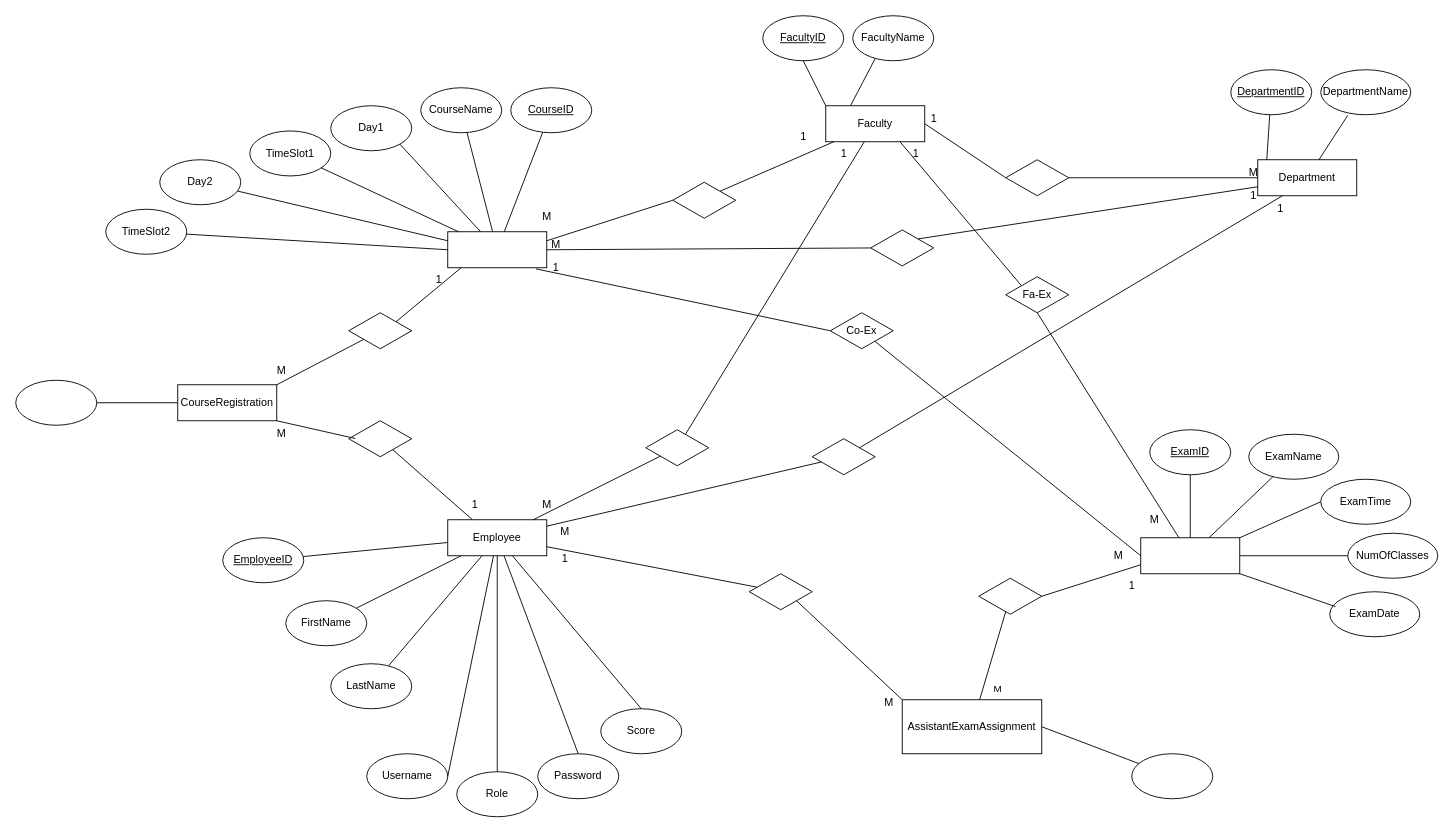
The diagram is 1454 pixels wide and 833 high, and some of its shapes have lost their labels. The shapes that lost their labels are listed below. From the top down, each one's box as (x1, y1, x2, y2) in pixels, then its label:
(1005, 159, 1069, 196): Fa-De
(672, 181, 736, 218): Co-Fa
(447, 231, 547, 268): Course
(870, 229, 934, 266): Co-De
(348, 312, 412, 349): CR-Co
(15, 379, 97, 425): RegistrationID
(348, 420, 412, 457): CR-Em
(645, 429, 709, 466): Em-Fa
(811, 438, 875, 475): Em-De
(1140, 537, 1240, 574): Exam
(748, 573, 812, 610): Em-As
(978, 577, 1042, 614): Ex-As
(1131, 753, 1213, 799): AssignmentID
